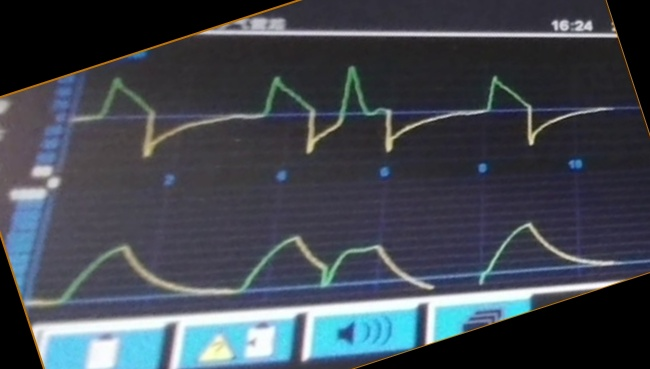Double_Triggering Flow: (99, 64, 596, 155)
Double_Triggering Volume: (72, 219, 608, 298)
